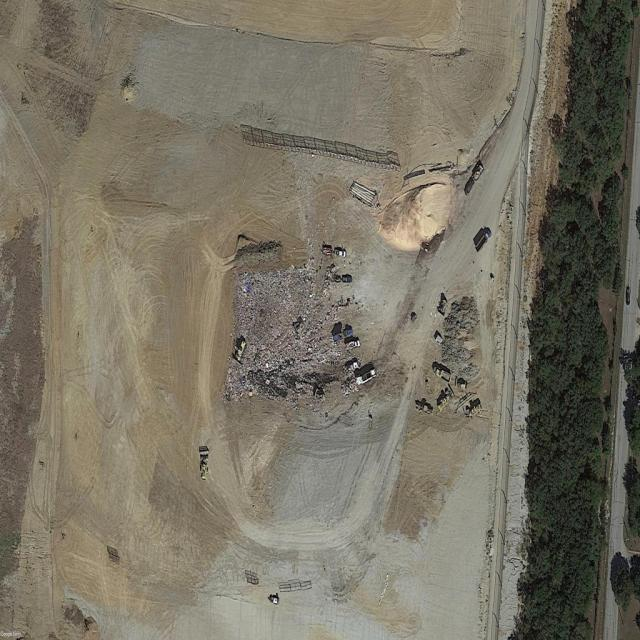dump_site: (224, 256, 373, 404)
